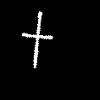single_crochet: (22, 12, 52, 67)
